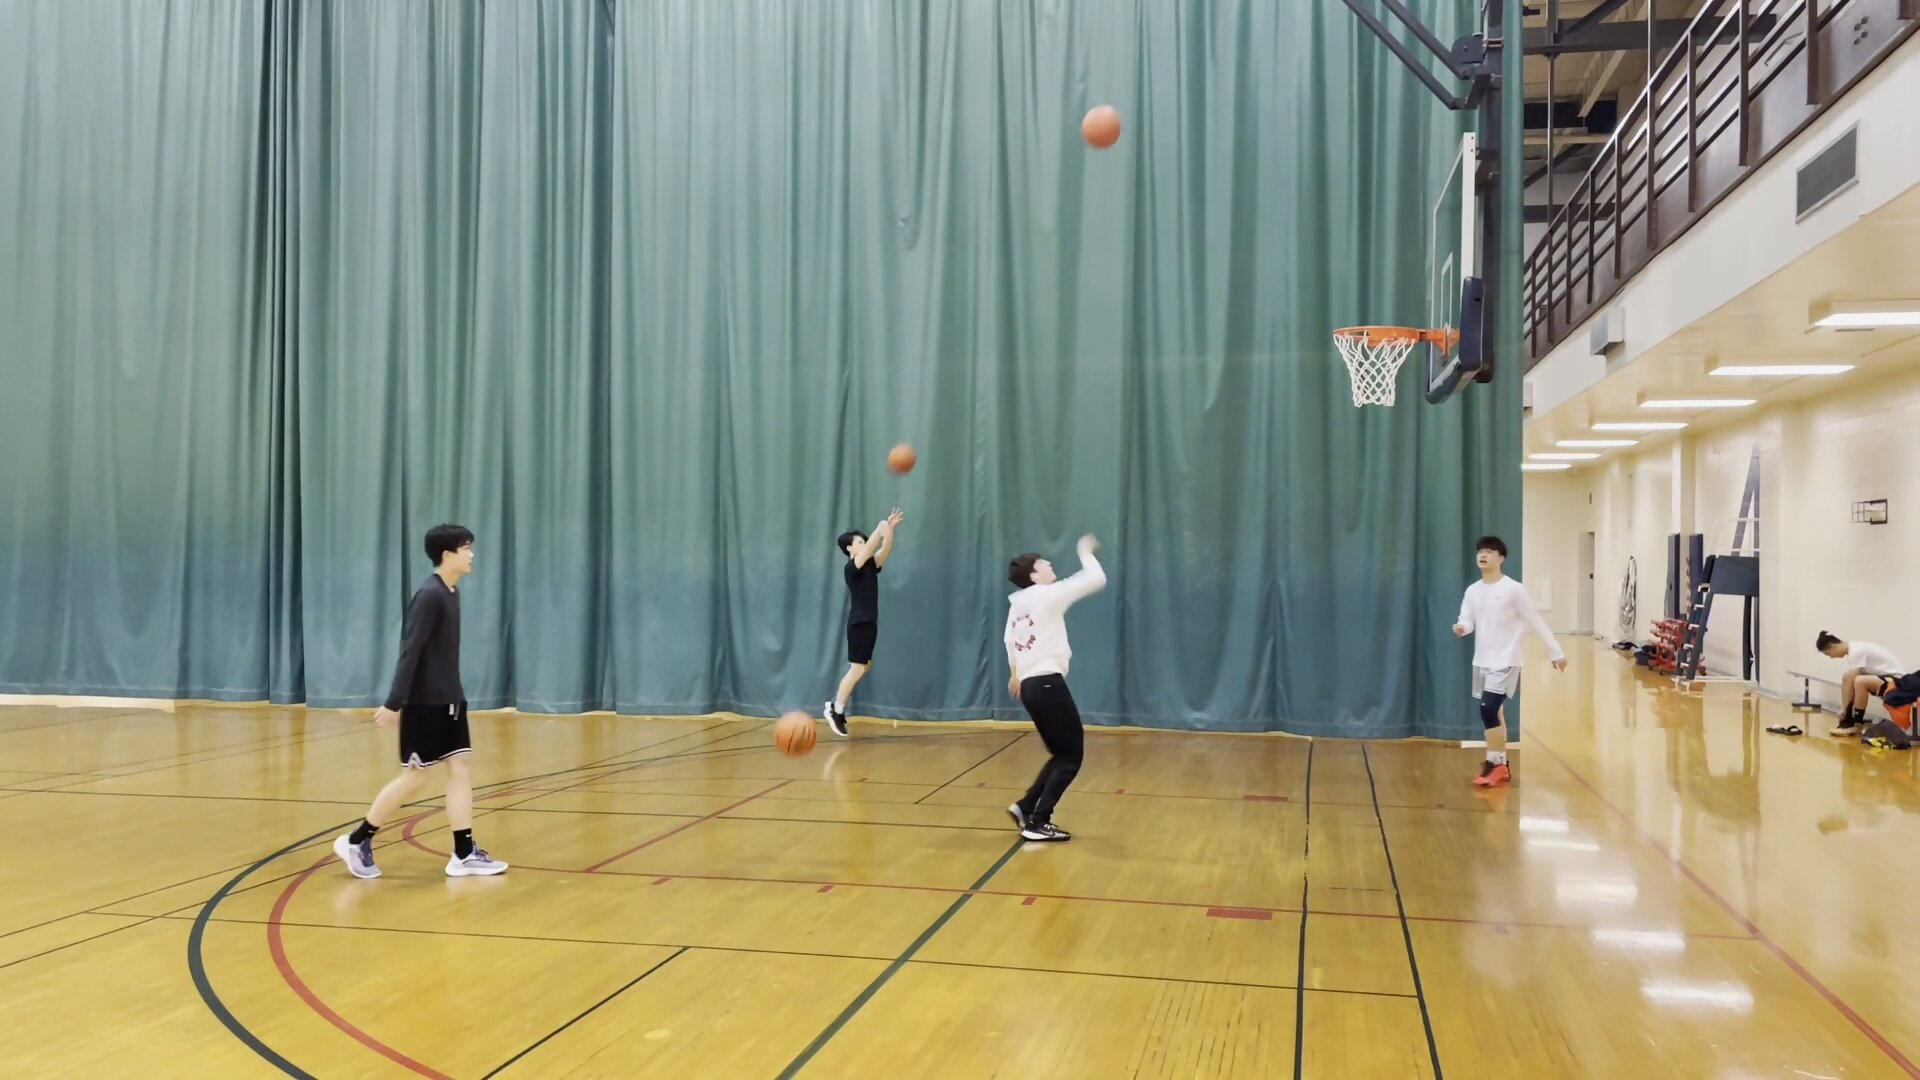ball: (772, 710, 822, 757), (1081, 106, 1129, 154), (884, 441, 920, 477)
net: (1349, 383, 1403, 414)
player: (331, 519, 517, 883), (992, 531, 1121, 846), (1454, 538, 1563, 792), (831, 506, 906, 734), (1814, 624, 1905, 743)
rim: (1330, 320, 1429, 348)
